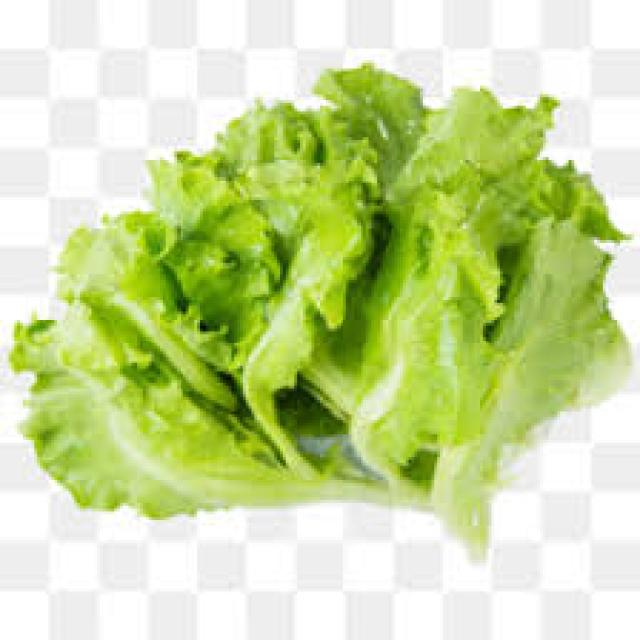Lettuce: (7, 61, 638, 568)
